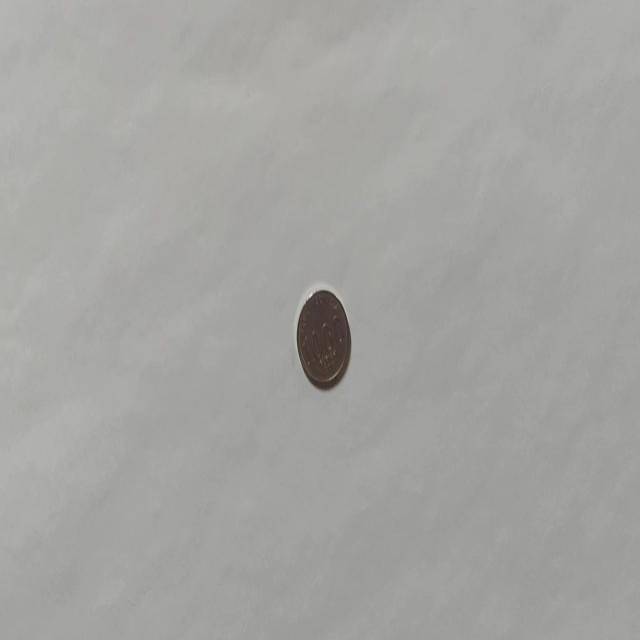seribu rupiah koin: (294, 284, 352, 388)
